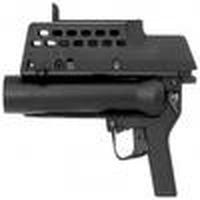gun: (3, 12, 200, 158)
